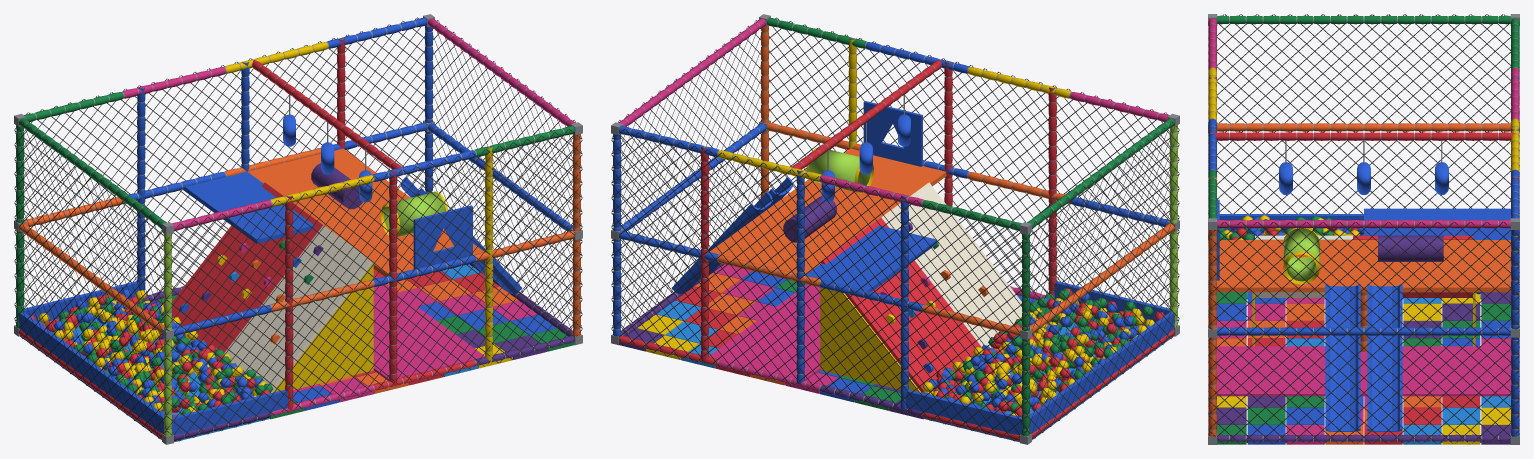
3 views of the same model, side by side, from view 1: azimuth 30°, elevation 25°; view 2: azimuth 150°, elevation 25°; view 3: azimuth 270°, elevation 25° (orthographic). The views are drawn at different scales.
Visible parts, largest first — view 1: plataforma, rede, vinil_tubo, bolinhas, tatame, metal, escorregador_plastico; view 2: plataforma, rede, vinil_tubo, bolinhas, tatame, metal, escorregador_plastico; view 3: plataforma, rede, vinil_tubo, tatame, escorregador_plastico, metal, bolinhas.
Part boxes in pixels (left/top/right/bottom): plataforma: left=16, top=114, right=484, bottom=442; rede: left=14, top=17, right=582, bottom=441; vinil_tubo: left=16, top=17, right=580, bottom=440; bolinhas: left=29, top=289, right=273, bottom=416; tatame: left=130, top=264, right=574, bottom=419; metal: left=14, top=14, right=582, bottom=444; escorregador_plastico: left=179, top=177, right=522, bottom=344; plataforma: left=709, top=101, right=1177, bottom=442; rede: left=611, top=17, right=1179, bottom=441; vinil_tubo: left=613, top=17, right=1177, bottom=440; bolinhas: left=922, top=288, right=1164, bottom=416; tatame: left=619, top=264, right=1051, bottom=419; metal: left=611, top=14, right=1179, bottom=444; escorregador_plastico: left=671, top=177, right=988, bottom=373; plataforma: left=1216, top=162, right=1511, bottom=396; rede: left=1208, top=14, right=1519, bottom=444; vinil_tubo: left=1208, top=15, right=1519, bottom=442; tatame: left=1217, top=292, right=1510, bottom=444; escorregador_plastico: left=1325, top=284, right=1402, bottom=431; metal: left=1208, top=14, right=1519, bottom=444; bolinhas: left=1219, top=214, right=1481, bottom=294.
Size of the model in its own units: 6 by 3 by 3.8.
Materials: 7 (6 with a texture image).
